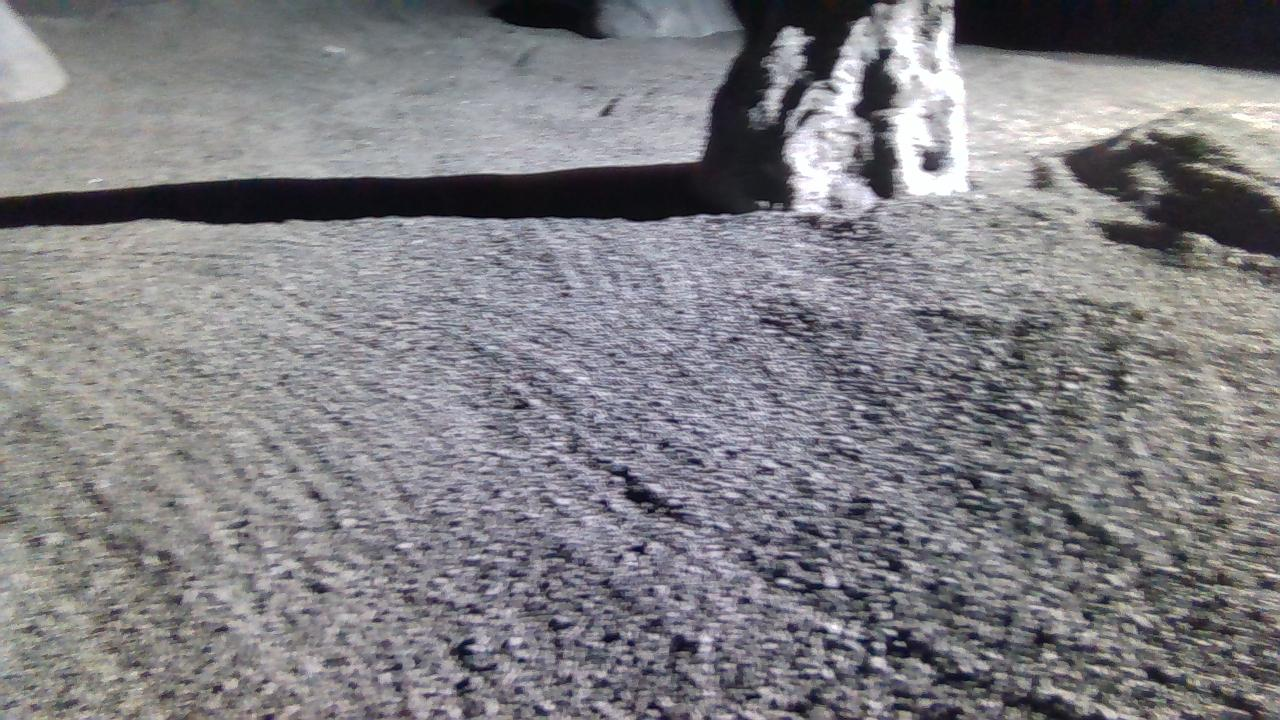rock: (703, 0, 970, 212), (1067, 100, 1280, 254), (598, 0, 742, 36)
